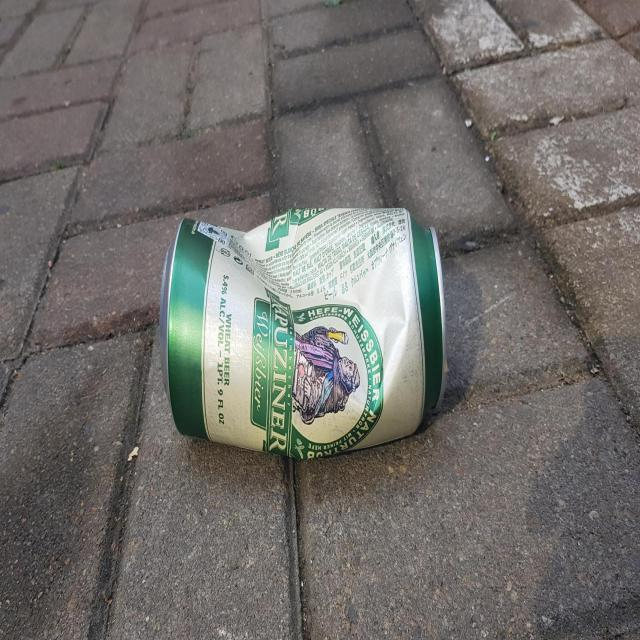can: (159, 207, 447, 459)
